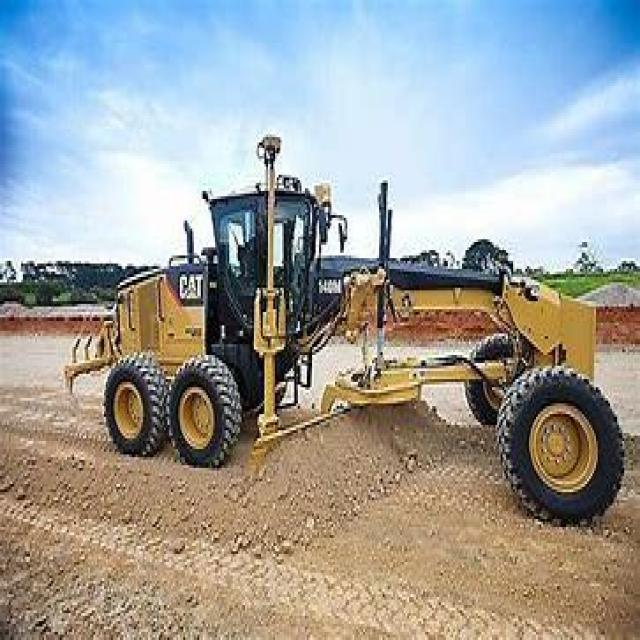buldozerpayloadergrader: (84, 145, 620, 522)
